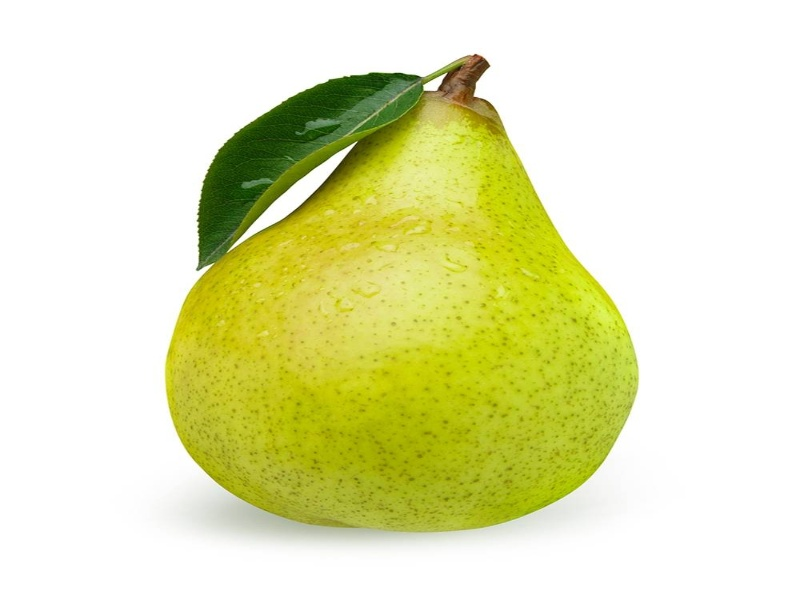Pera: (165, 54, 640, 529)
